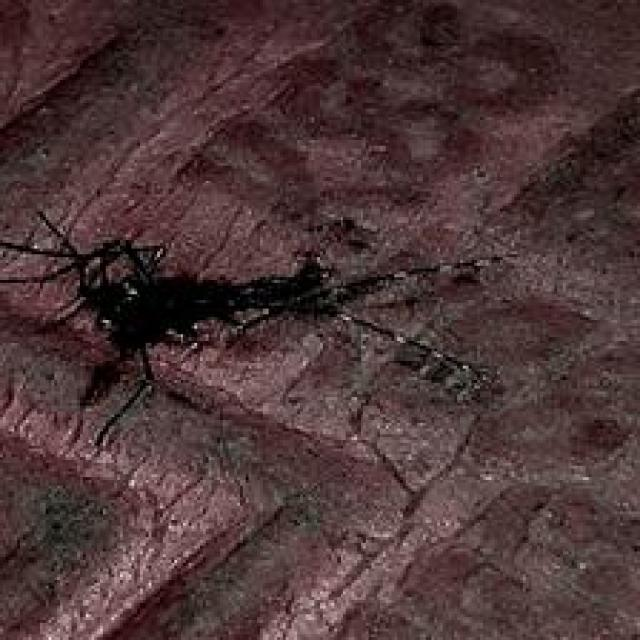Aedes albopictus: (0, 206, 500, 451)
